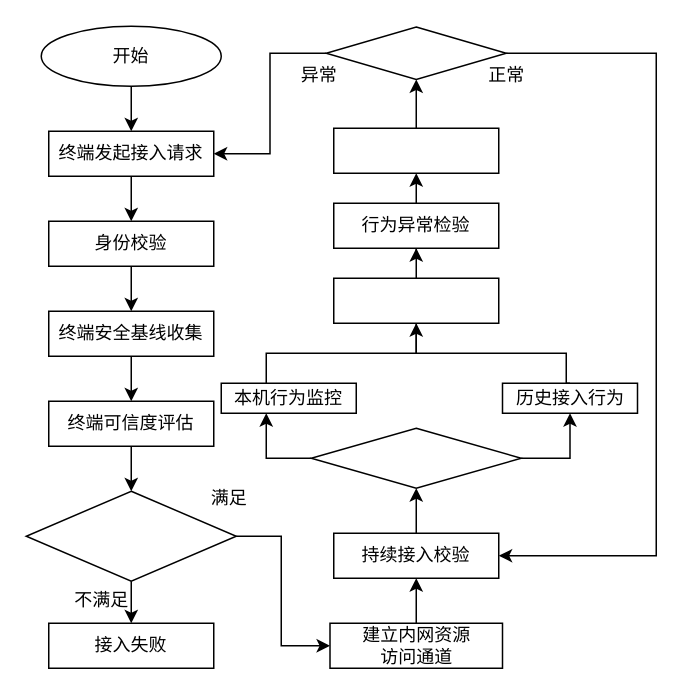
Some shapes in this 695 by 695 pixel diagram are drawn without their labels. Here are the shapes that lost their labels. From the top down, the box of each, then its label:
(325, 26, 506, 80): 管理员调整
(332, 127, 499, 173): 行为信任值计算
(332, 277, 499, 323): 数据预处理
(310, 427, 521, 488): 行为数据采集
(25, 490, 236, 581): 综合信任是否 满足接入阈值
